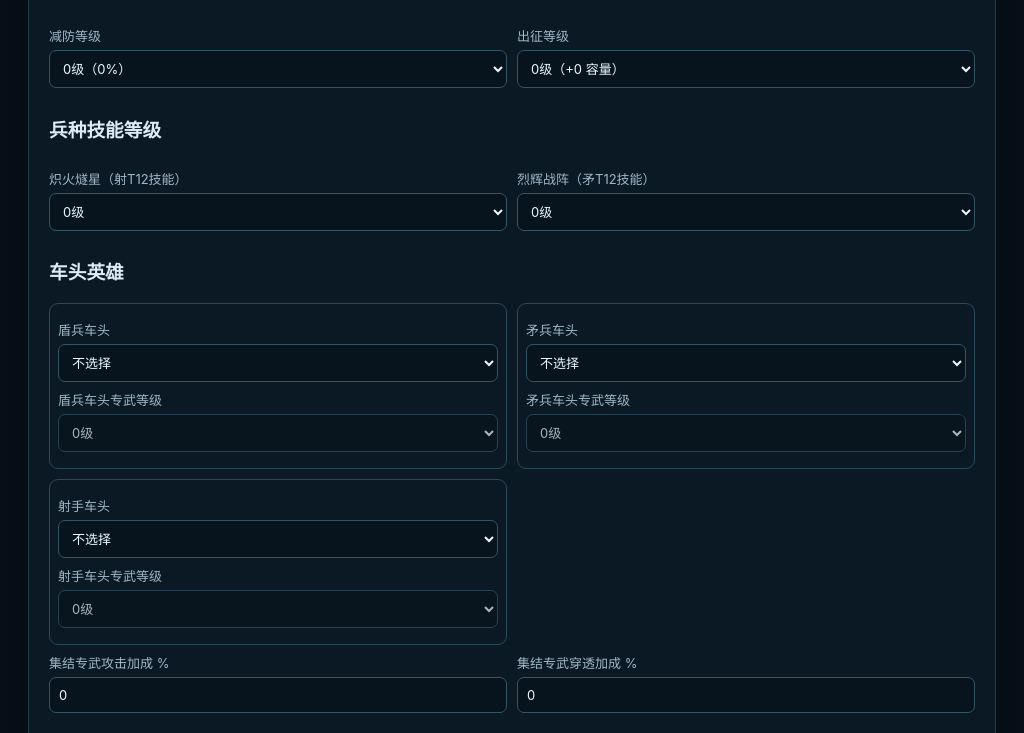
Test: 计算器UI有限选项与技能说明 › 弗林特可作为盾兵车头选择并展示三个正式技能
The width and height of the screenshot is (1024, 733).
(page scrolled)
Select "弗林特（S2）" in the dropdown labelled "盾兵车头" at (278, 363), box [58,344,498,382]
(page scrolled)
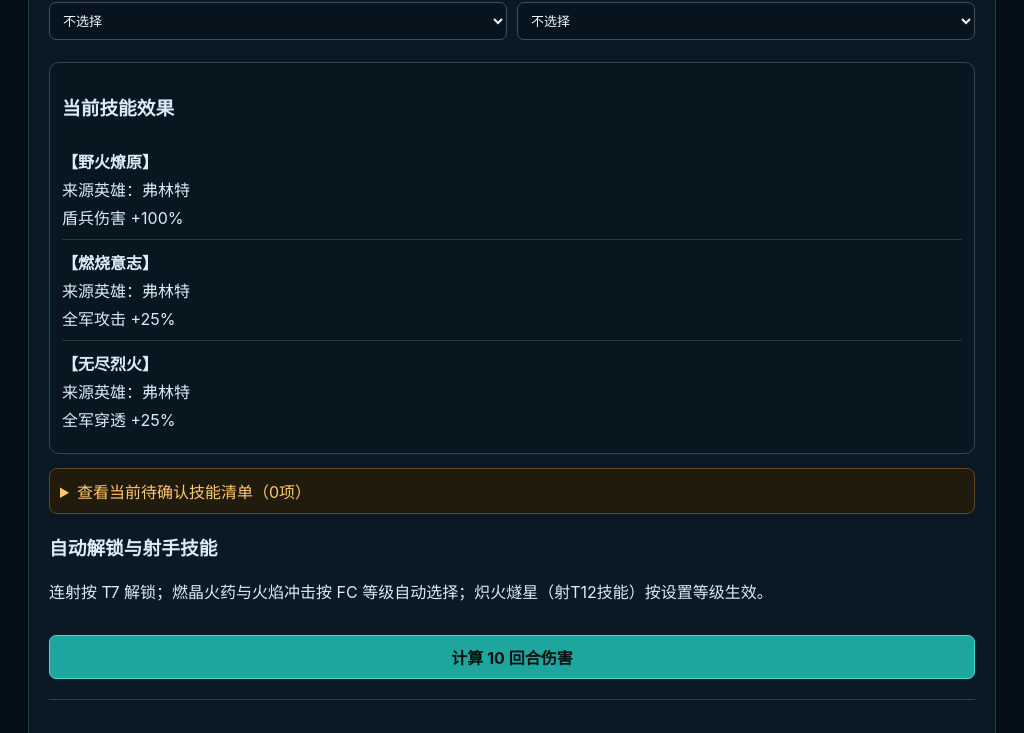
expect the text "【野火燎原】" is shown: met, box [62,152,158,172]
expect the text "【燃烧意志】" is shown: met, box [62,253,158,273]
expect the text "【无尽烈火】" is shown: met, box [62,354,158,374]
